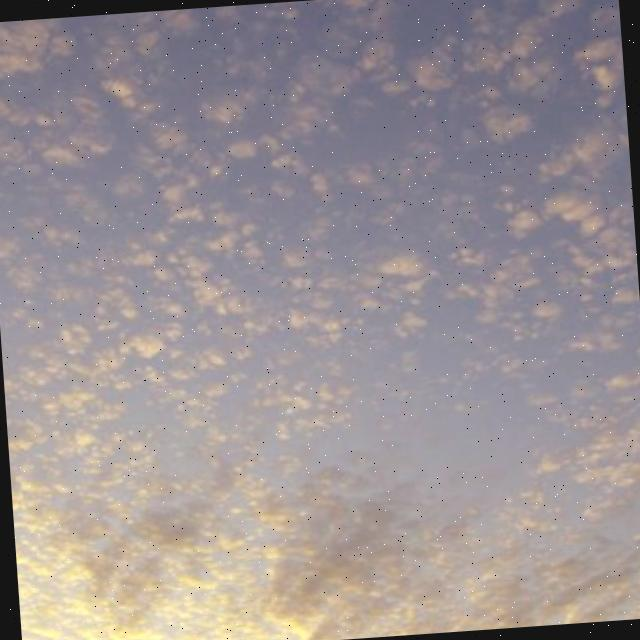Ac: (1, 12, 640, 637)
